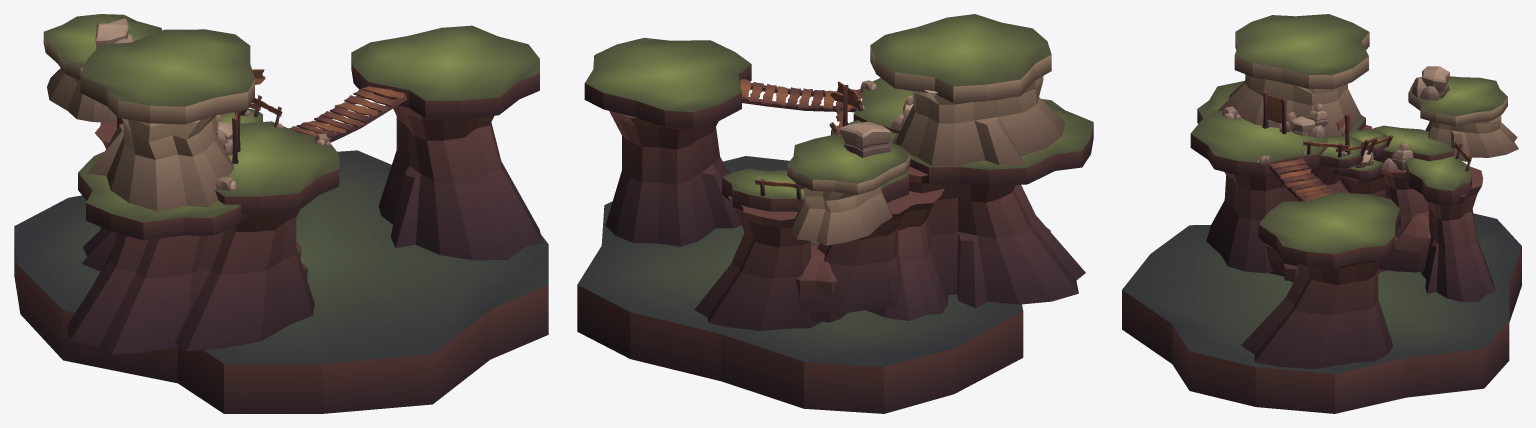
File: Terrain Draft.fbx
The picture shows the model from 3 angles, left to right: view 1: azimuth 30°, elevation 25°; view 2: azimuth 150°, elevation 25°; view 3: azimuth 270°, elevation 25°; orthographic projection. The views are drawn at different scales.
Parts seen in each view (by area): view 1: Cube.081, Cube.069, Cube.039, Cube.001, Cube.054, Cube.016, Cube.003, Cube, Cube.046, Cube.063, Cube.062, Cube.018 (+1 smaller); view 2: Cube.081, Cube.069, Cube.039, Cube.054, Cube.016, Cube.003, Cube.019, Cube.015, Cube.046, Cube.063, Cube.018, Cube.062 (+6 smaller); view 3: Cube.081, Cube.069, Cube.054, Cube.039, Cube.019, Cube, Cube.001, Cube.003, Cube.063, Cube.017, Cube.062, Cube.020 (+12 smaller).
Boxes of the visible parts, bbox=[...] form: Cube.081: bbox=[14, 150, 548, 413]; Cube.069: bbox=[378, 105, 542, 260]; Cube.039: bbox=[80, 29, 254, 124]; Cube.001: bbox=[175, 209, 314, 351]; Cube.054: bbox=[351, 25, 539, 118]; Cube.016: bbox=[67, 233, 206, 354]; Cube.003: bbox=[86, 115, 233, 211]; Cube: bbox=[215, 121, 339, 214]; Cube.046: bbox=[78, 152, 250, 240]; Cube.063: bbox=[43, 14, 162, 79]; Cube.062: bbox=[47, 68, 116, 122]; Cube.018: bbox=[81, 228, 116, 271]; Cube.081: bbox=[577, 156, 1050, 413]; Cube.069: bbox=[605, 111, 741, 246]; Cube.039: bbox=[870, 14, 1051, 102]; Cube.054: bbox=[584, 37, 751, 128]; Cube.016: bbox=[957, 183, 1085, 308]; Cube.003: bbox=[891, 76, 1065, 166]; Cube.019: bbox=[694, 195, 820, 330]; Cube.015: bbox=[798, 193, 914, 313]; Cube.046: bbox=[910, 99, 1093, 185]; Cube.063: bbox=[787, 134, 910, 194]; Cube.018: bbox=[867, 188, 948, 320]; Cube.062: bbox=[790, 176, 898, 245]; Cube.081: bbox=[1122, 213, 1521, 413]; Cube.069: bbox=[1241, 237, 1397, 369]; Cube.054: bbox=[1258, 192, 1399, 267]; Cube.039: bbox=[1234, 14, 1369, 89]; Cube.019: bbox=[1421, 166, 1495, 301]; Cube: bbox=[1190, 111, 1327, 177]; Cube.001: bbox=[1206, 170, 1300, 273]; Cube.003: bbox=[1217, 74, 1362, 136]; Cube.063: bbox=[1408, 76, 1507, 126]; Cube.017: bbox=[1406, 154, 1471, 205]; Cube.062: bbox=[1425, 115, 1518, 161]; Cube.020: bbox=[1379, 210, 1430, 272].
Bounding box in the file's own units: 974 × 551 × 871.
